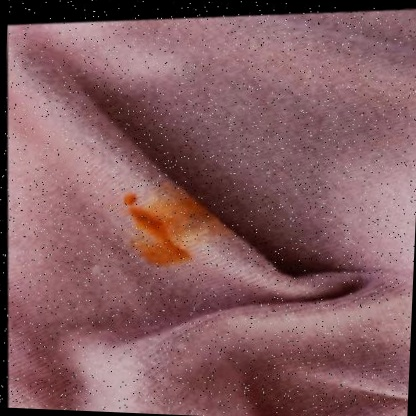kimchi: (113, 192, 213, 267)
